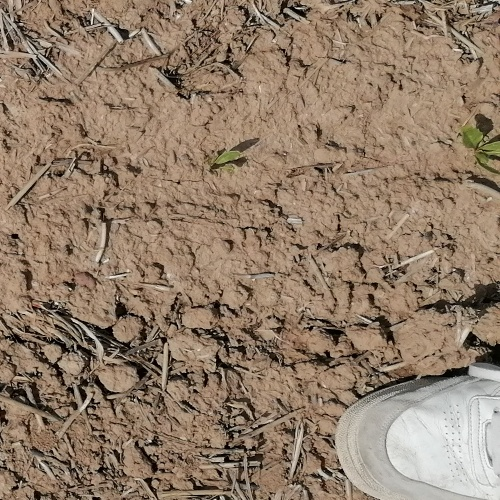beet: (463, 126, 500, 165), (208, 151, 239, 175)
